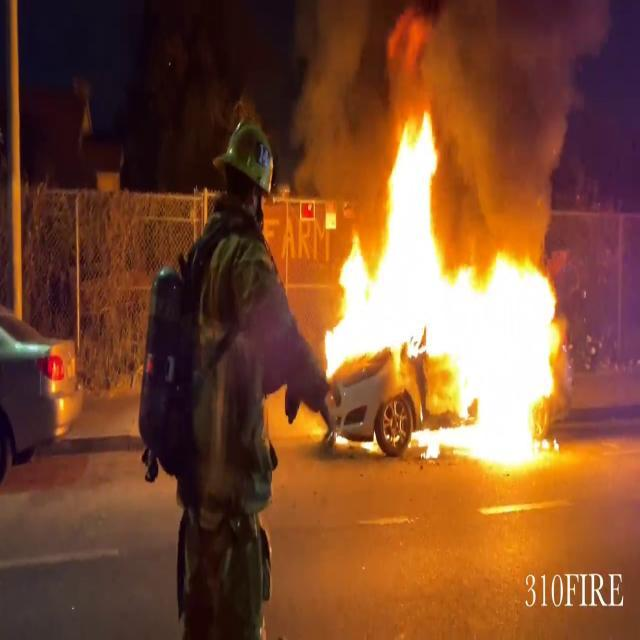Fire: (318, 103, 576, 470)
Smoke: (440, 0, 623, 244)
